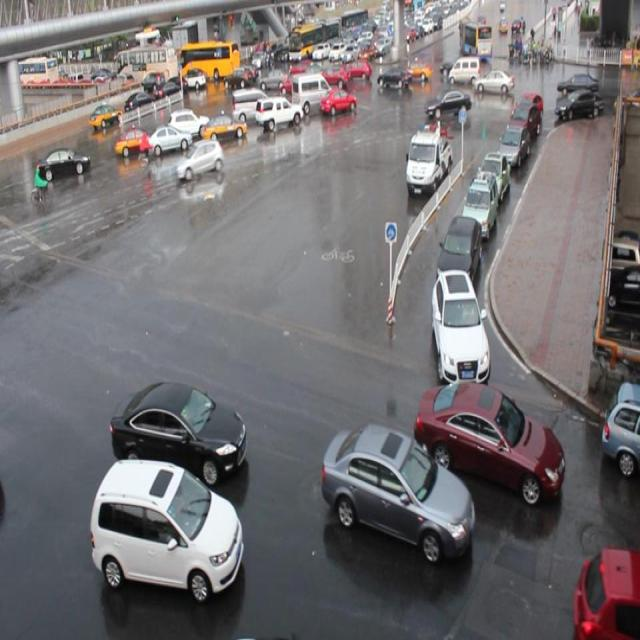bus: (405, 129, 451, 196)
car: (89, 460, 244, 596), (322, 421, 473, 558), (413, 382, 565, 504), (111, 377, 248, 482), (430, 268, 488, 384), (571, 547, 639, 640), (598, 381, 640, 471), (436, 213, 481, 292), (460, 173, 498, 242), (473, 150, 509, 208), (176, 139, 223, 181), (38, 145, 91, 177), (202, 112, 247, 146), (255, 98, 302, 130), (495, 124, 527, 170), (507, 106, 539, 150), (425, 88, 469, 119), (168, 110, 211, 139), (146, 126, 192, 153), (517, 94, 543, 132), (115, 128, 156, 152), (321, 90, 358, 115)
truck: (292, 77, 333, 113), (232, 90, 274, 122)
